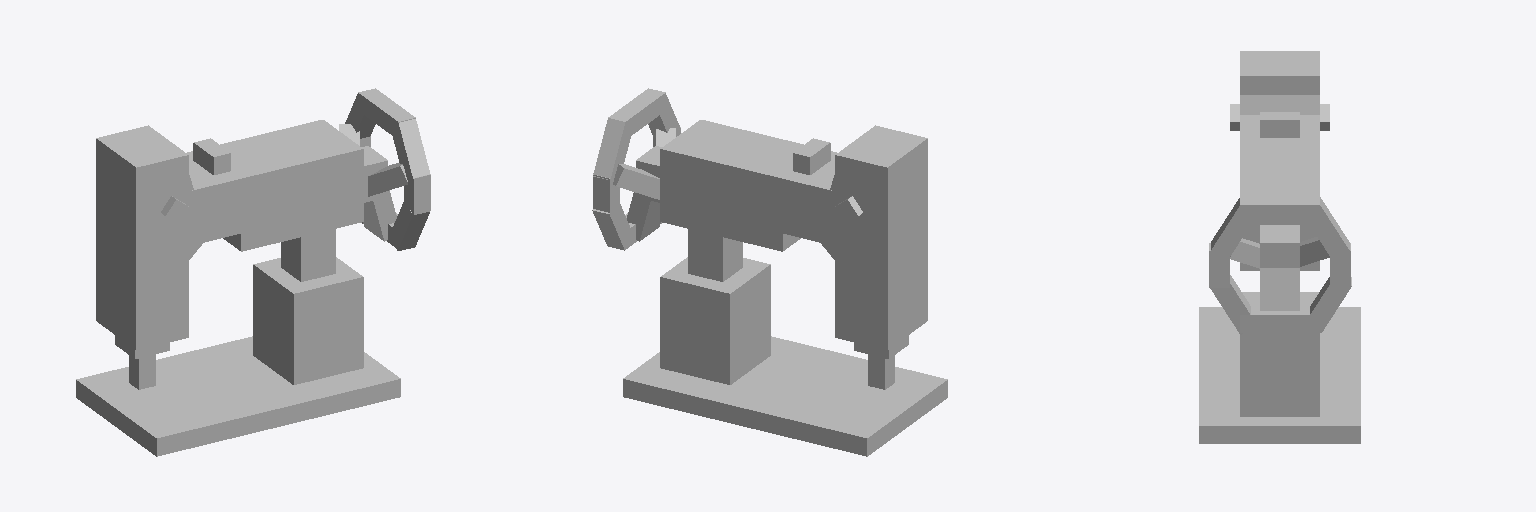
The model's file is 672_vintage_sewing_machine.obj.
The picture shows the model from 3 angles: view 1: azimuth 30°, elevation 25°; view 2: azimuth 150°, elevation 25°; view 3: azimuth 270°, elevation 25°; orthographic projection.
Visible parts, largest first — view 1: Base, Hold4, Hold2, Hold1, Hold3, Exten1, Wheel2, Wheel1, Wheel8, Wheel10, Hold7, Wheel9 (+4 smaller); view 2: Base, Hold4, Hold2, Hold1, Hold3, Exten1, Wheel3, Wheel1, Wheel7, Wheel11, Wheel10, Hold7 (+4 smaller); view 3: Base, Hold1, Hold2, Hold4, Wheel1, Spinner1, Wheel10, Wheel6, Hold5, Wheel3, Wheel2, Hold7 (+7 smaller).
Boxes of the visible parts, x1=… form: Base: x1=76, y1=336, x2=400, y2=456; Hold4: x1=96, y1=125, x2=188, y2=350; Hold2: x1=220, y1=120, x2=363, y2=251; Hold1: x1=253, y1=257, x2=363, y2=384; Hold3: x1=187, y1=151, x2=240, y2=245; Exten1: x1=281, y1=229, x2=335, y2=281; Wheel2: x1=393, y1=119, x2=429, y2=181; Wheel1: x1=358, y1=88, x2=415, y2=139; Wheel8: x1=389, y1=200, x2=429, y2=250; Wheel10: x1=363, y1=190, x2=396, y2=241; Hold7: x1=193, y1=138, x2=230, y2=174; Wheel9: x1=368, y1=163, x2=407, y2=196; Base: x1=623, y1=336, x2=947, y2=456; Hold4: x1=835, y1=125, x2=927, y2=350; Hold2: x1=660, y1=120, x2=803, y2=251; Hold1: x1=660, y1=257, x2=770, y2=384; Hold3: x1=783, y1=151, x2=836, y2=245; Exten1: x1=688, y1=229, x2=742, y2=281; Wheel3: x1=593, y1=118, x2=633, y2=181; Wheel1: x1=608, y1=88, x2=665, y2=138; Wheel7: x1=592, y1=199, x2=632, y2=250; Wheel11: x1=613, y1=164, x2=659, y2=199; Wheel10: x1=627, y1=192, x2=660, y2=241; Hold7: x1=793, y1=138, x2=830, y2=174; Base: x1=1199, y1=307, x2=1360, y2=443; Hold1: x1=1240, y1=292, x2=1319, y2=416; Hold2: x1=1240, y1=138, x2=1319, y2=270; Hold4: x1=1240, y1=51, x2=1319, y2=94; Wheel1: x1=1240, y1=197, x2=1319, y2=223; Spinner1: x1=1260, y1=225, x2=1299, y2=267; Wheel10: x1=1260, y1=268, x2=1299, y2=310; Wheel6: x1=1240, y1=307, x2=1319, y2=332; Hold5: x1=1240, y1=95, x2=1319, y2=114; Wheel3: x1=1307, y1=197, x2=1349, y2=261; Wheel2: x1=1210, y1=198, x2=1256, y2=261; Hold7: x1=1260, y1=112, x2=1299, y2=137.
Bounding box in the file's own units: 1 × 0.9375 × 0.5.